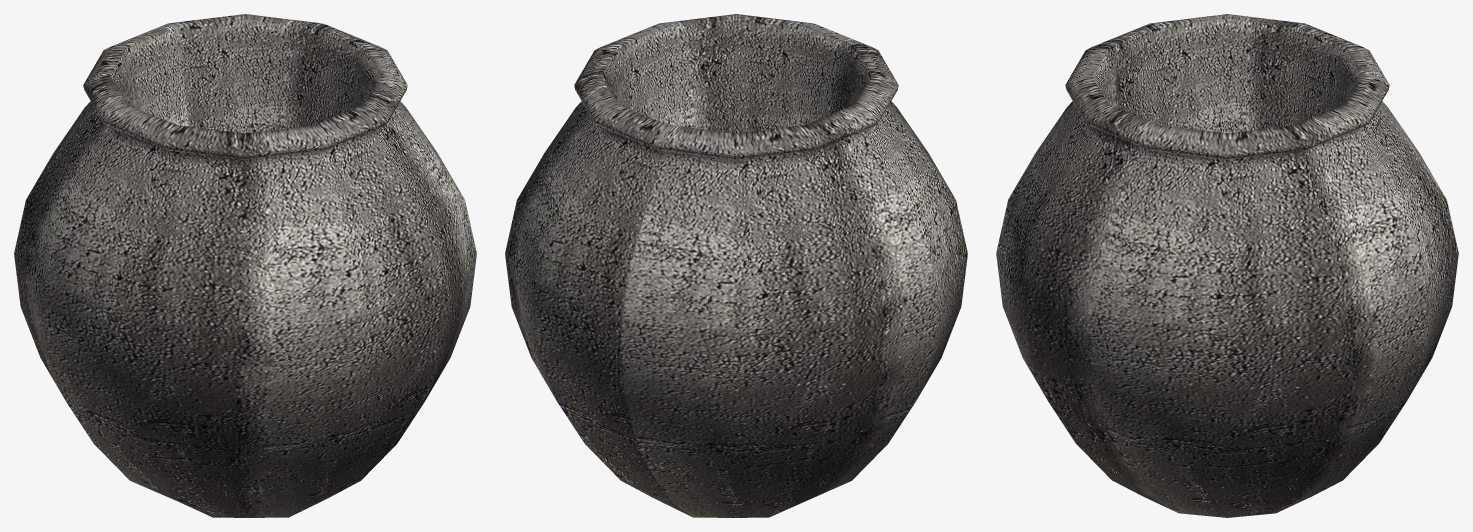
Rendered from bigvase.fbx.
3 views of the same model, side by side, from view 1: azimuth 30°, elevation 25°; view 2: azimuth 150°, elevation 25°; view 3: azimuth 270°, elevation 25° (orthographic).
Visible parts, largest first — view 1: bigvase; view 2: bigvase; view 3: bigvase.
Part boxes in pixels (box(x1,y1,x2,y2)): bigvase: box(14, 14, 476, 517); bigvase: box(505, 14, 967, 517); bigvase: box(996, 14, 1458, 517).
Bounding box in the file's own units: 2.27 × 2.25 × 2.24.
